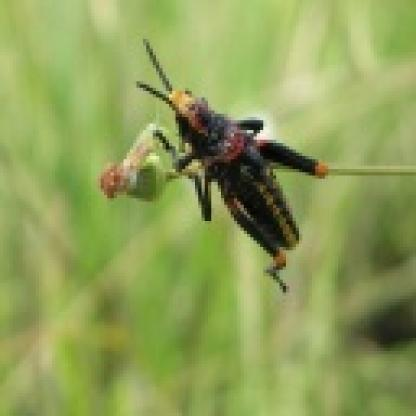grasshopper: (135, 44, 340, 280)
